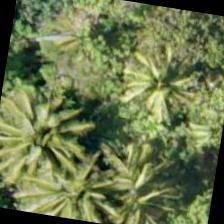Kelapa_Sawit: (84, 43, 188, 146), (82, 57, 184, 160), (11, 128, 114, 222), (38, 136, 141, 223), (88, 138, 192, 223), (0, 92, 80, 194), (0, 64, 73, 164)
